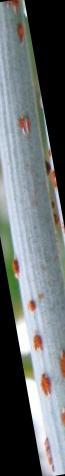Wheat: (0, 21, 65, 406)
